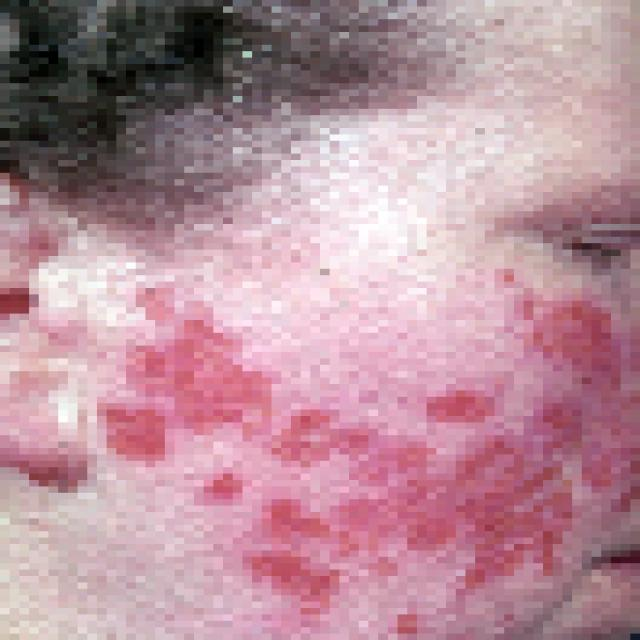lupus: (85, 269, 627, 639)
